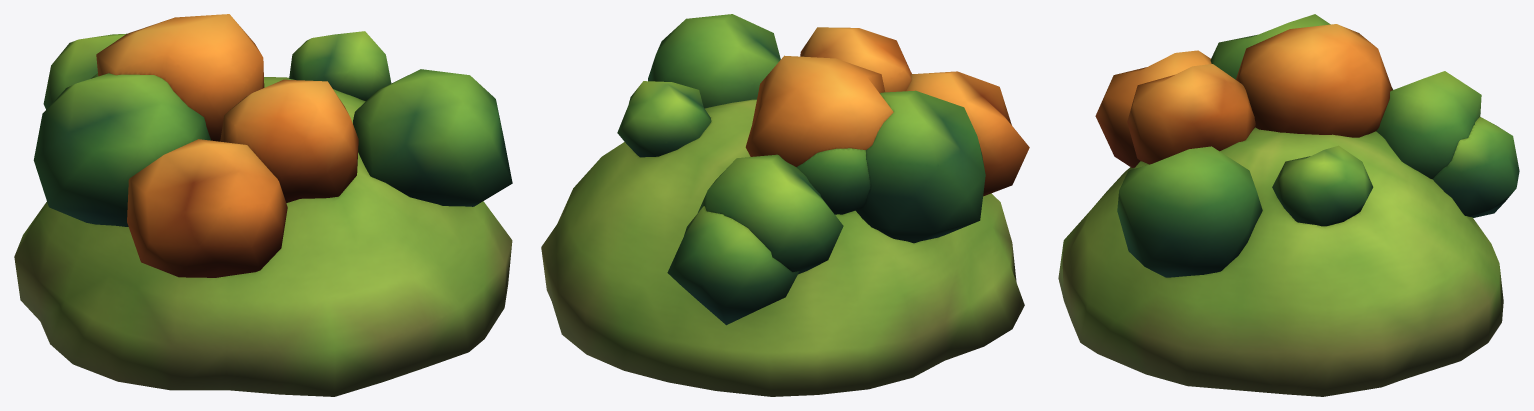
File: hill_a.glb
3 renders of one model, left to right at view 1: azimuth 30°, elevation 25°; view 2: azimuth 150°, elevation 25°; view 3: azimuth 270°, elevation 25°, orthographic. The views are drawn at different scales.
Parts seen in each view (by area): view 1: hill_a; view 2: hill_a; view 3: hill_a.
Part boxes in pixels (x1=…): hill_a: x1=14, y1=14, x2=512, y2=396; hill_a: x1=541, y1=14, x2=1029, y2=396; hill_a: x1=1058, y1=14, x2=1519, y2=396.
Size of the model in its own units: 1.8 by 1.08 by 1.85.
1 material, 1 textured.
